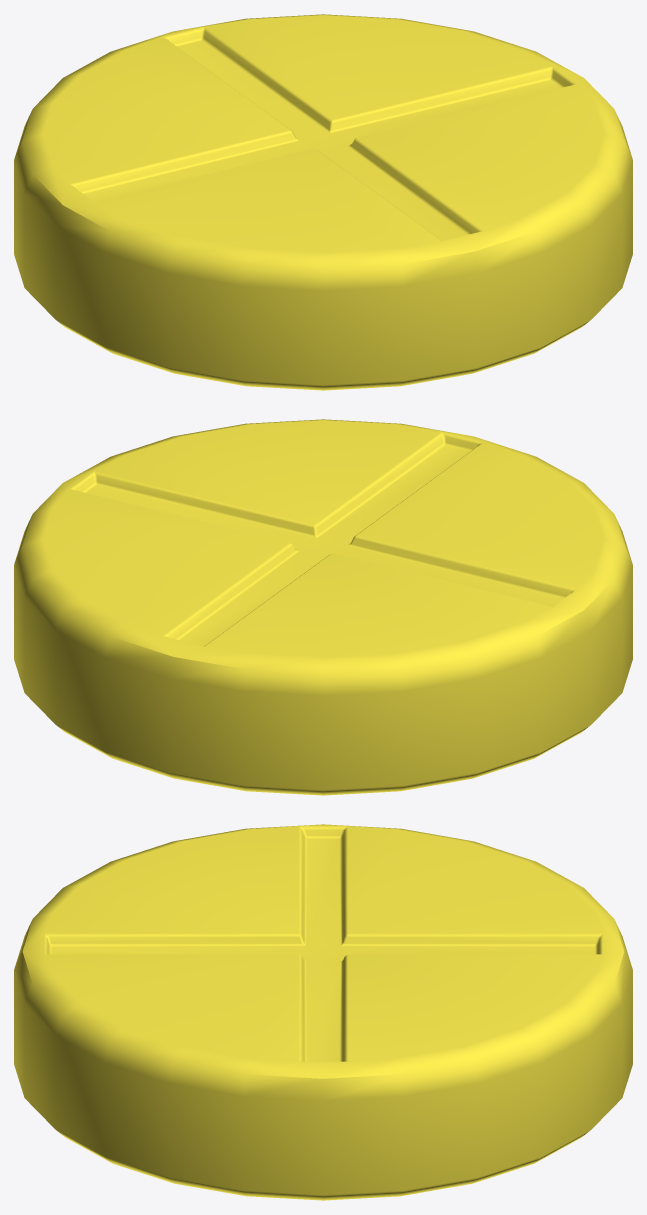
The model's file is Store_15_Pill_2.glb.
The picture shows the model from 3 angles, top to bottom: view 1: azimuth 30°, elevation 25°; view 2: azimuth 150°, elevation 25°; view 3: azimuth 270°, elevation 25°; orthographic projection.
Parts seen in each view (by area): view 1: Store_15_Pill_2; view 2: Store_15_Pill_2; view 3: Store_15_Pill_2.
Part boxes in pixels (bbox=[...]): Store_15_Pill_2: bbox=[14, 14, 632, 390]; Store_15_Pill_2: bbox=[14, 419, 632, 795]; Store_15_Pill_2: bbox=[14, 824, 632, 1200].
Bounding box in the file's own units: 1.47 × 0.3425 × 1.47.
1 material, 1 textured.
